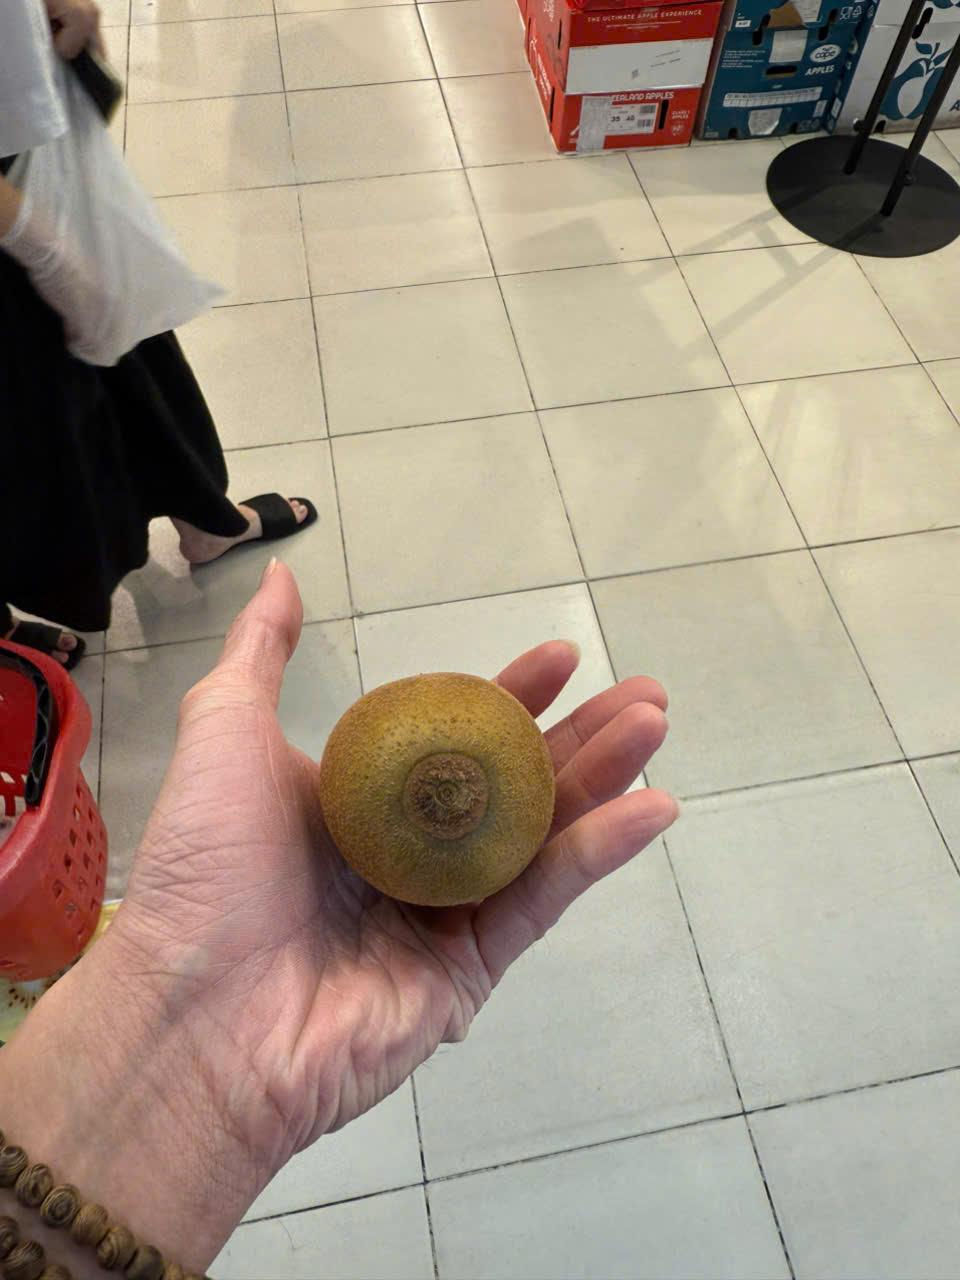kiwi: (320, 671, 558, 916)
